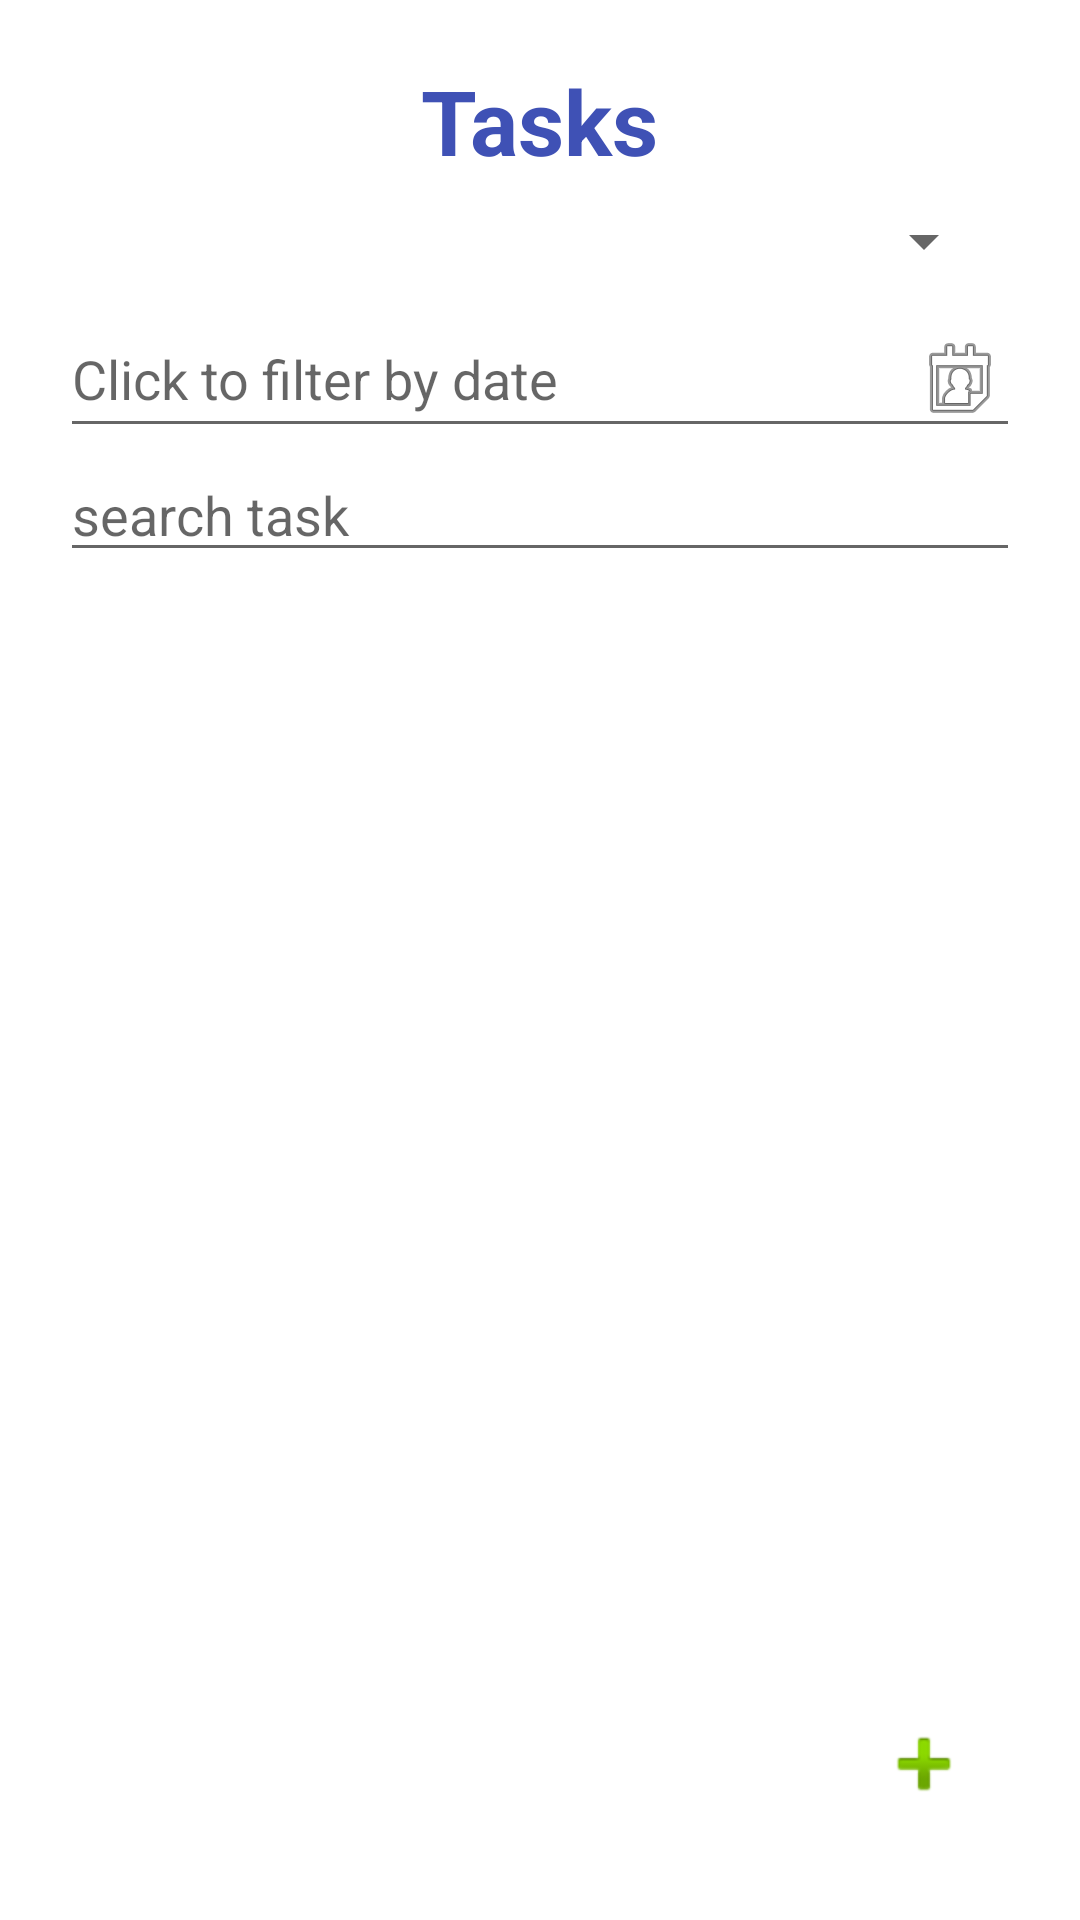

Screen size 1080*1920. Icon name, then its center in pixels as (x=x, y=y):
New Task: (x=924, y=1764)
